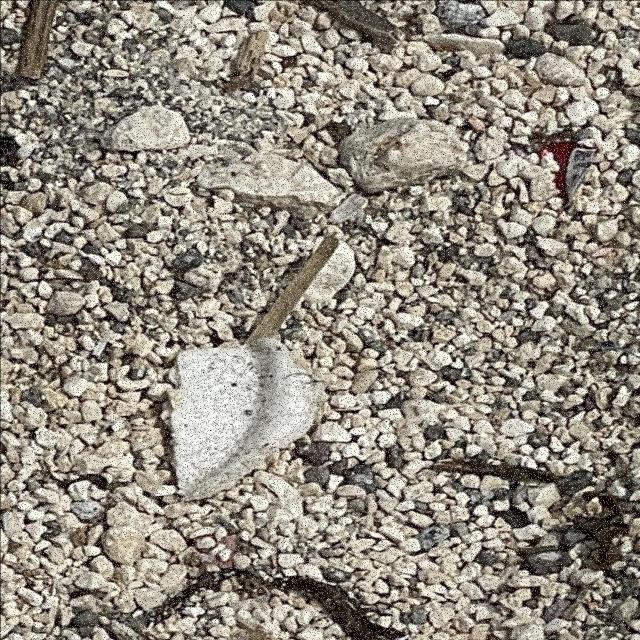styrofoam_waste: (168, 335, 320, 504)
